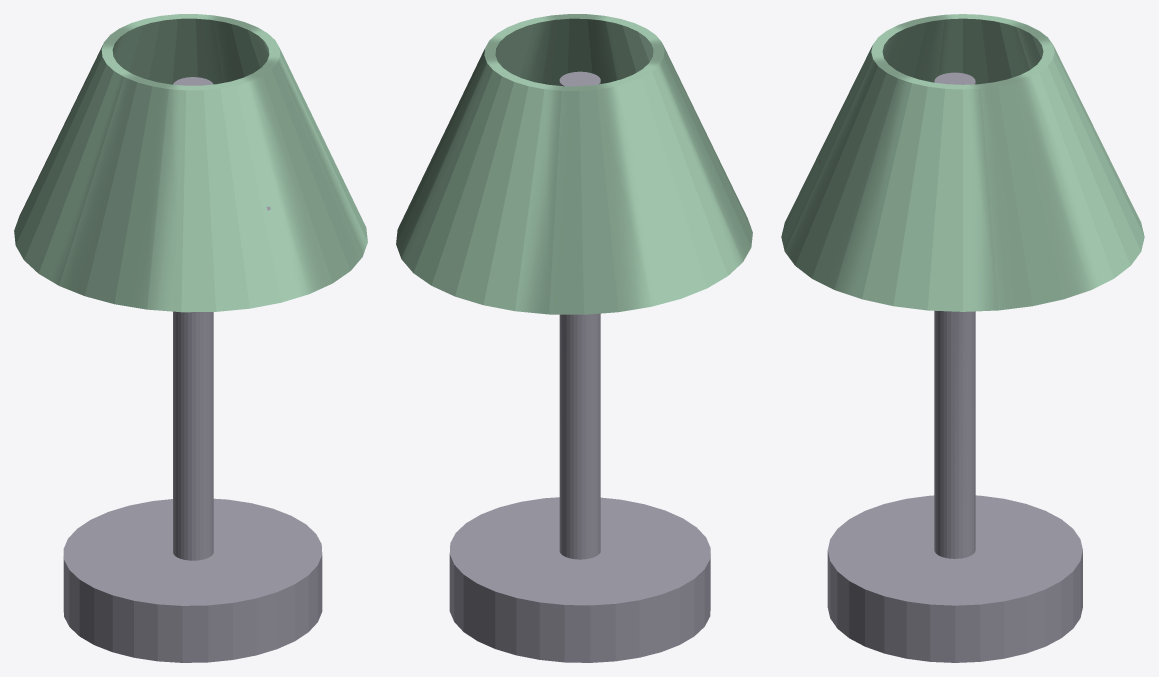
Rendered from Lampara_Pequeña.fbx.
3 views of the same model, side by side, from view 1: azimuth 30°, elevation 25°; view 2: azimuth 150°, elevation 25°; view 3: azimuth 270°, elevation 25° (orthographic).
Parts seen in each view (by area): view 1: lamp_2; view 2: lamp_2; view 3: lamp_2.
Boxes of the visible parts, bbox=[...] form: lamp_2: bbox=[14, 14, 367, 662]; lamp_2: bbox=[396, 14, 752, 662]; lamp_2: bbox=[781, 14, 1144, 662].
Size of the model in its own units: 146 by 254 by 150.
